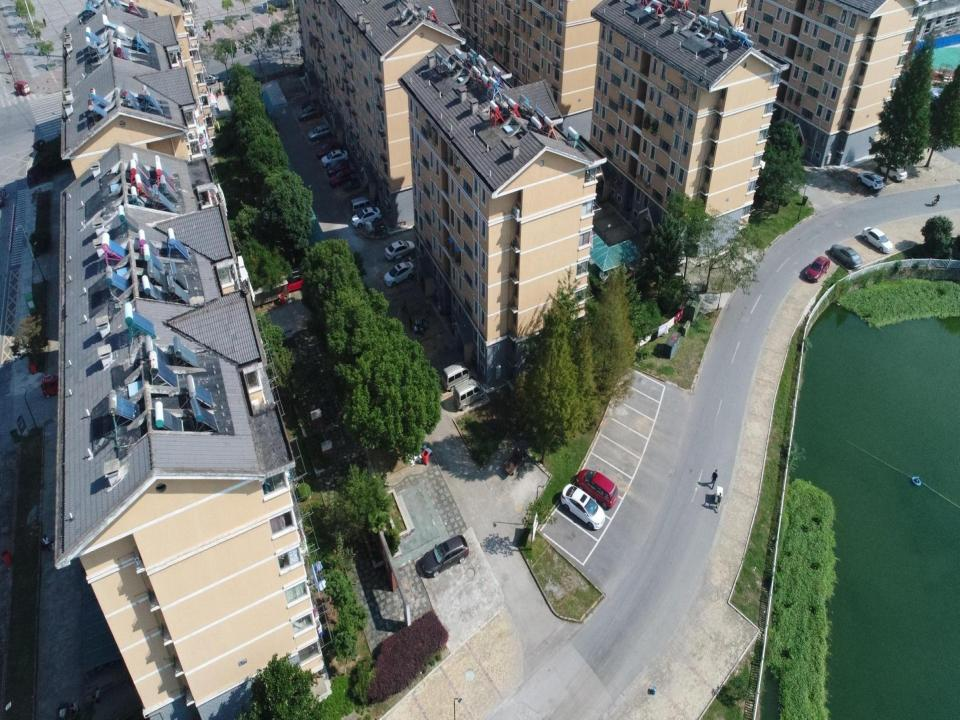car: (560, 483, 605, 530), (421, 534, 469, 578), (576, 468, 618, 509), (862, 226, 894, 254), (383, 260, 415, 287), (830, 243, 863, 269), (279, 268, 309, 295), (804, 256, 830, 284), (351, 206, 382, 228), (384, 240, 416, 261), (878, 162, 908, 182), (320, 149, 349, 168), (857, 172, 884, 192), (316, 140, 344, 159), (326, 158, 352, 178), (329, 168, 355, 188), (298, 104, 323, 122), (308, 124, 332, 142), (200, 72, 220, 87), (286, 10, 302, 23)
van: (452, 378, 485, 411), (440, 361, 470, 391), (350, 195, 376, 216)
